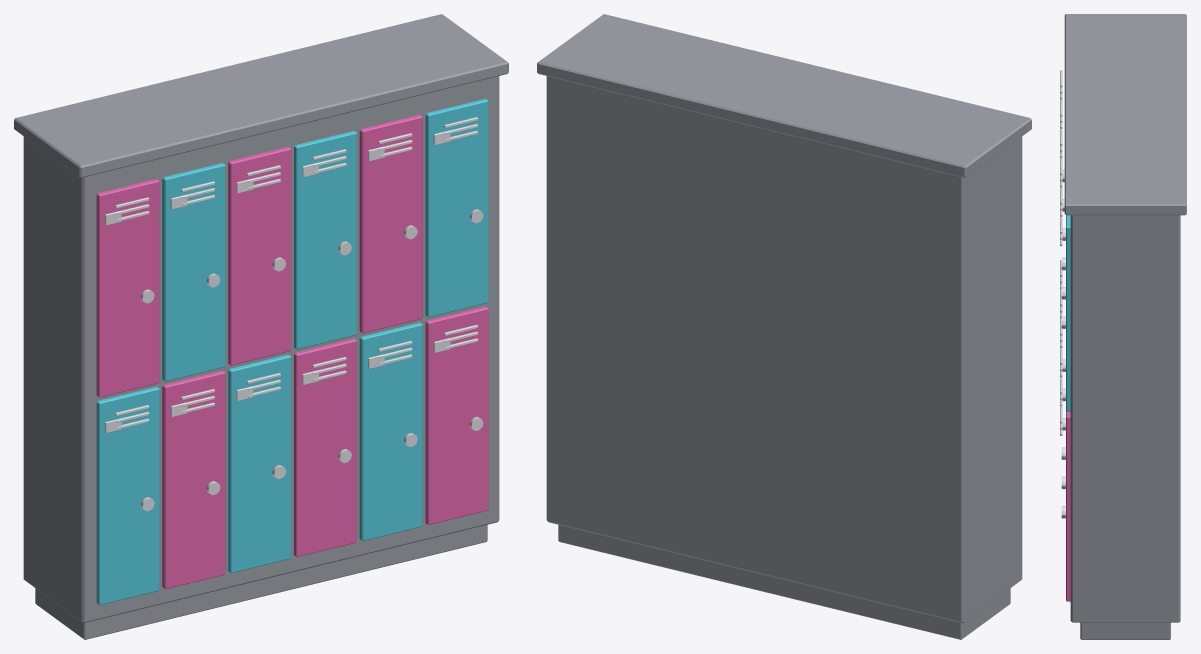
File: laser-tag-arena-and-activity-centre-locker-bank-c3d8411f__34498.glb
3 renders of one model, left to right at view 1: azimuth 30°, elevation 25°; view 2: azimuth 150°, elevation 25°; view 3: azimuth 270°, elevation 25°, orthographic. The views are drawn at different scales.
Visible parts, largest first — view 1: locker-bank; view 2: locker-bank; view 3: locker-bank.
Boxes of the visible parts, x1=… form: locker-bank: x1=14, y1=14, x2=508, y2=639; locker-bank: x1=537, y1=14, x2=1031, y2=639; locker-bank: x1=1060, y1=14, x2=1186, y2=639.
Bounding box in the file's own units: 1.85 × 1.99 × 0.518.
